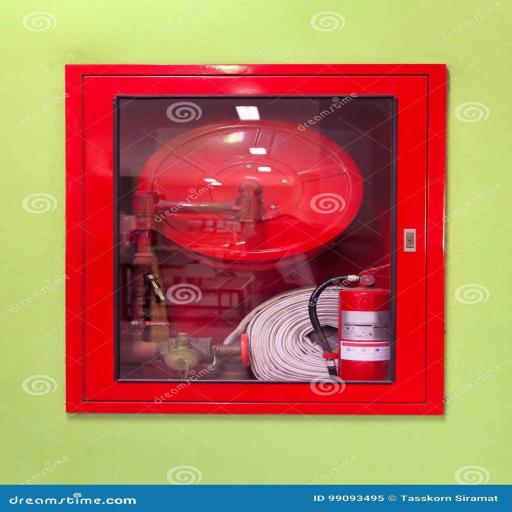fire_hose: (60, 60, 447, 422)
